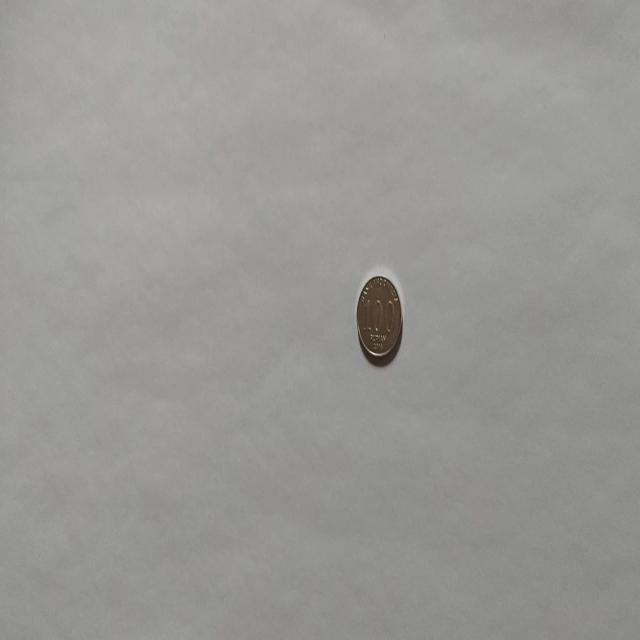seratus rupiah: (356, 273, 402, 363)
